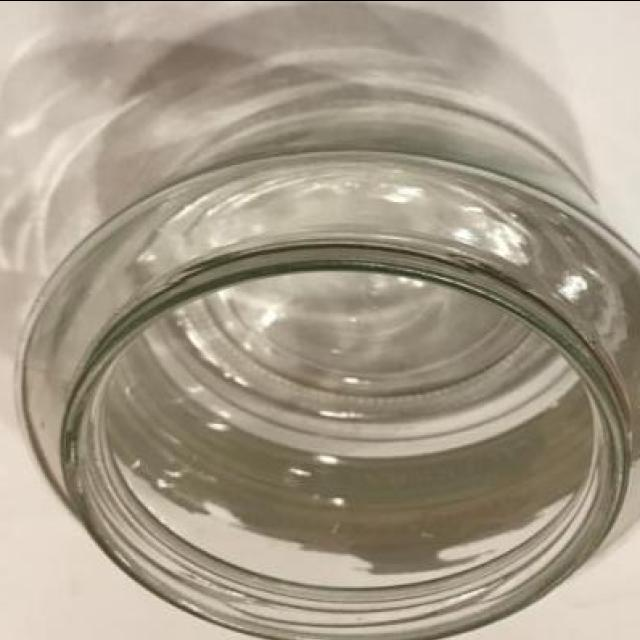kaca: (21, 98, 640, 640)
